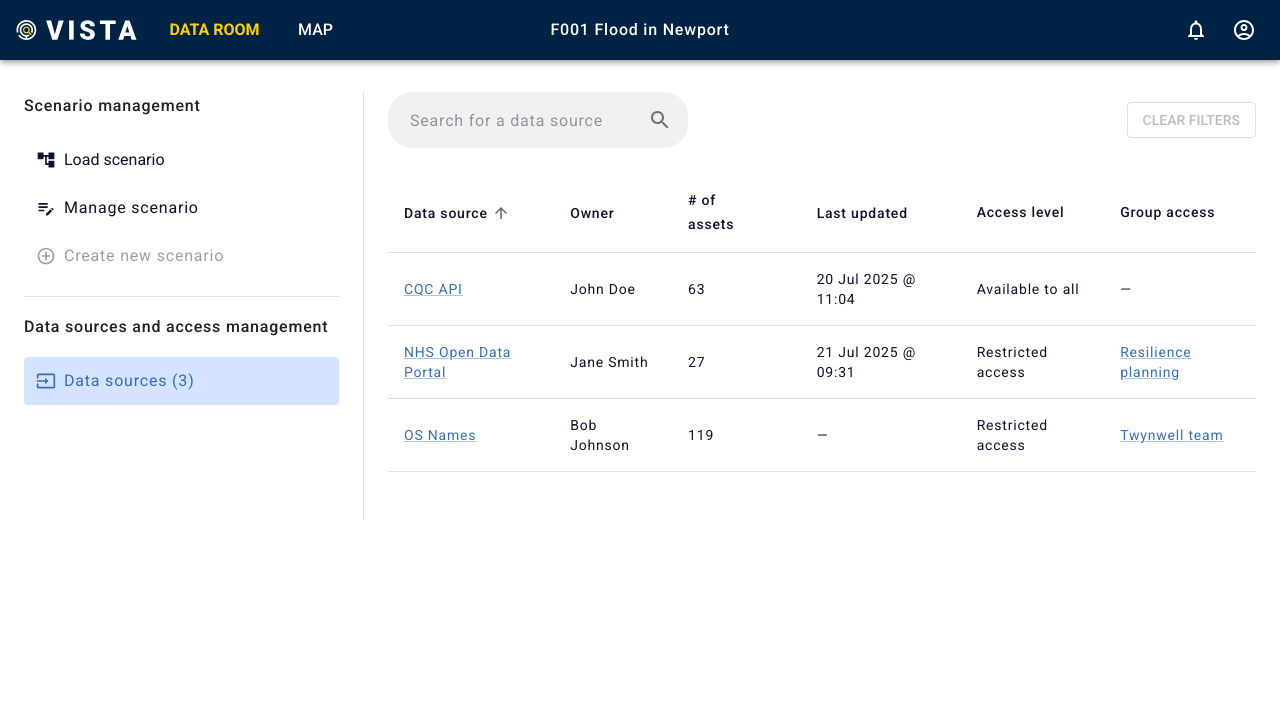
Test: DataSources › Scenario Modal › opens modal when Load scenario button is clicked
Expected: the link "CQC API" is shown, [404,281,463,297]
Click the button "Load scenario": (114,160) [24,136,339,184]
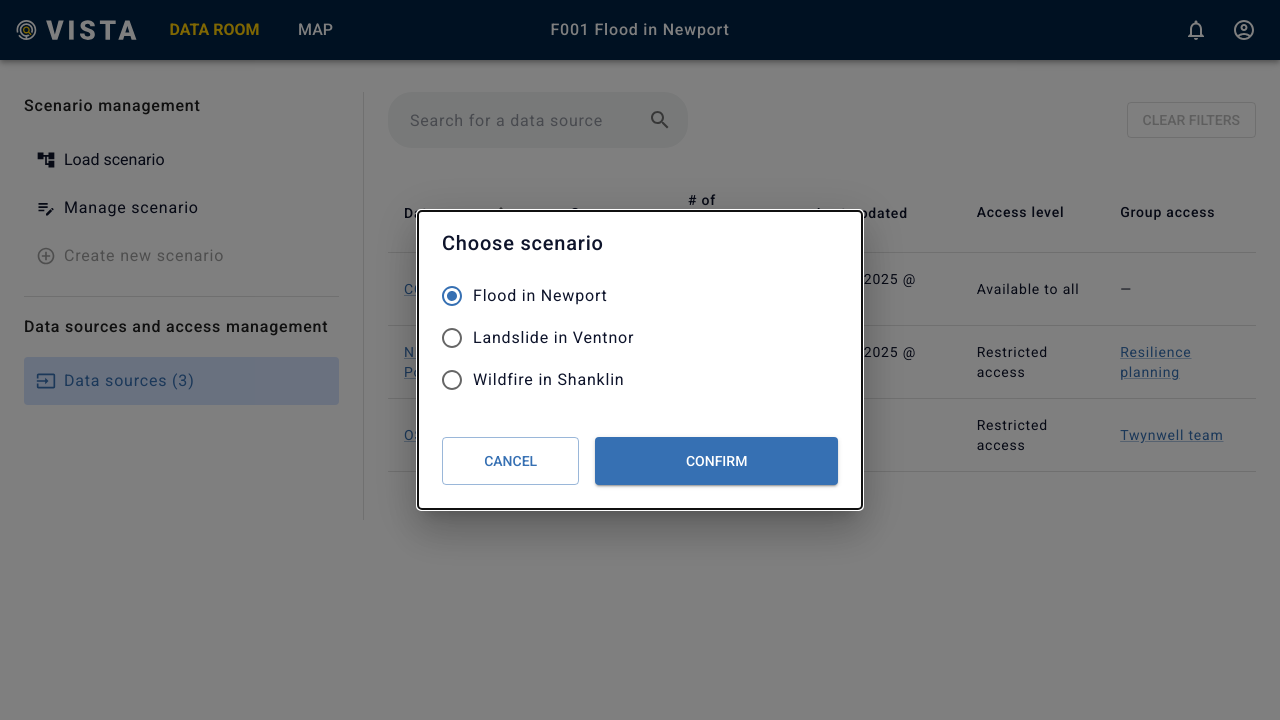
Now the heading "Choose scenario" is shown, box [442,231,604,255]
Now the text "Flood in Newport" is shown, box [473,284,608,308]
Now the text "Landslide in Ventnor" is shown, box [473,326,634,350]
